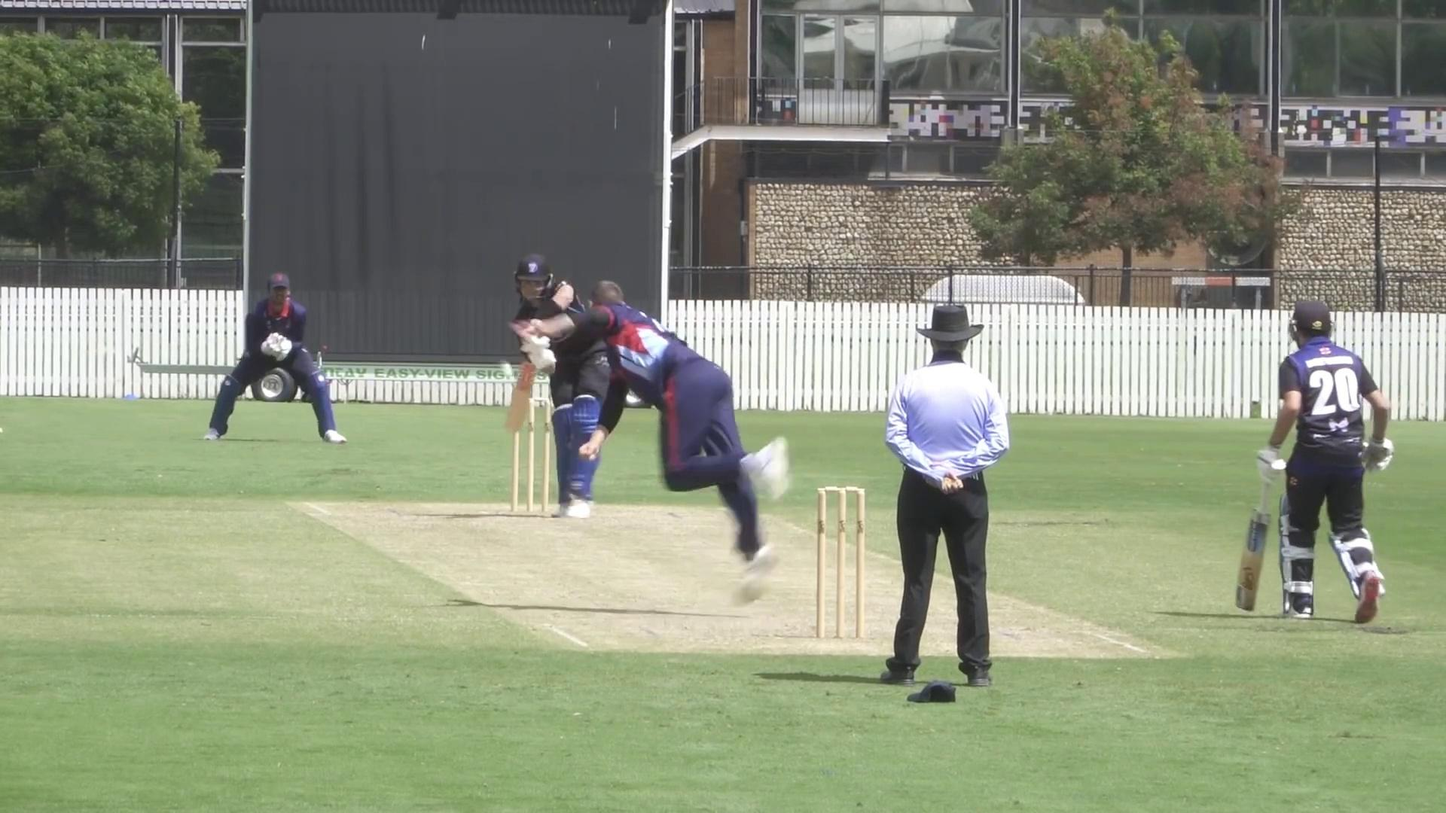ball: (498, 358, 518, 382)
